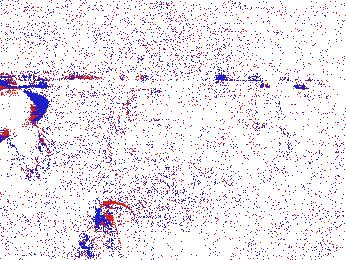flame jellyfish: (1, 84, 52, 181), (71, 201, 142, 260), (54, 197, 101, 246)
